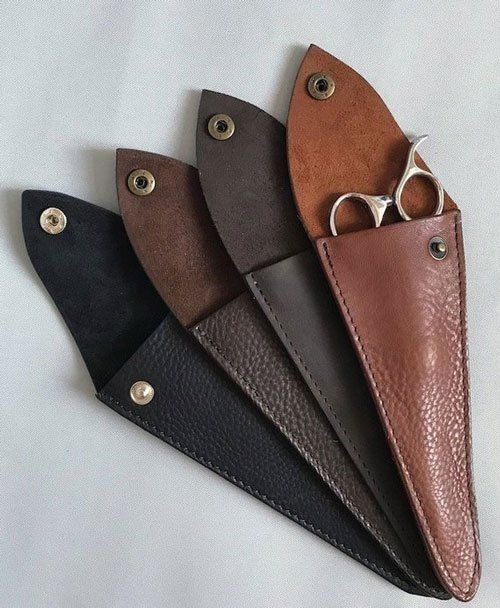cuero: (22, 42, 483, 602)
